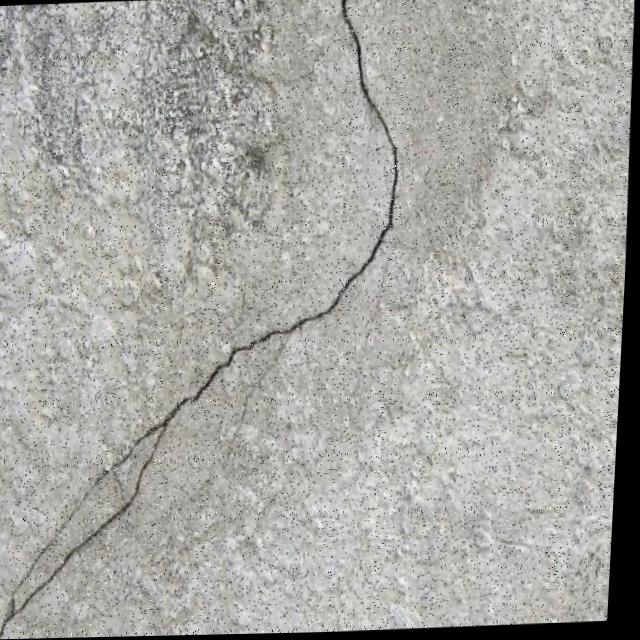Crack: (0, 0, 425, 640)
